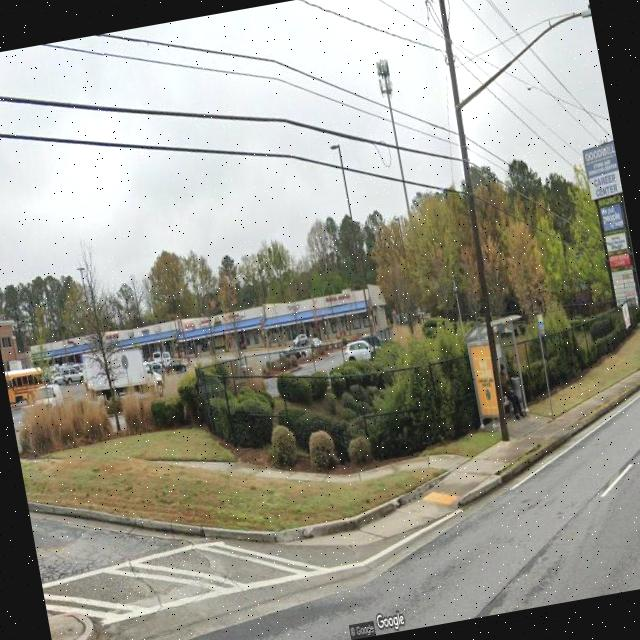seating: (502, 396, 518, 418)
shelter: (460, 312, 542, 436)
trash_can: (511, 376, 525, 414)
